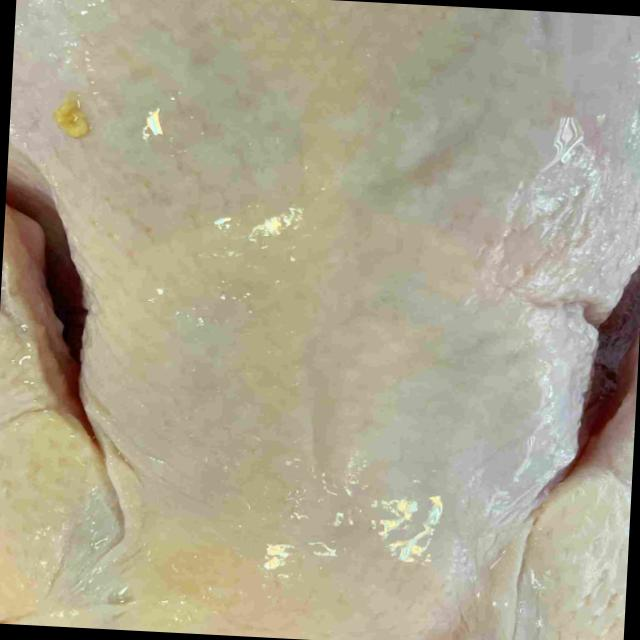back: (9, 0, 640, 640)
wing: (0, 208, 110, 626), (509, 324, 640, 640)
